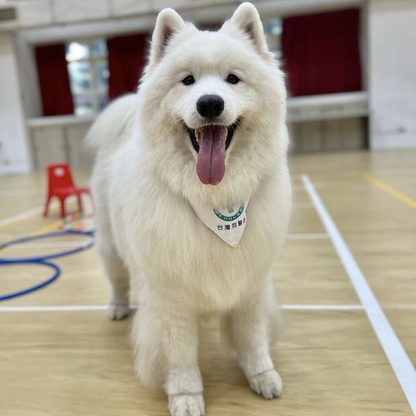samoyed: (78, 1, 299, 416)
